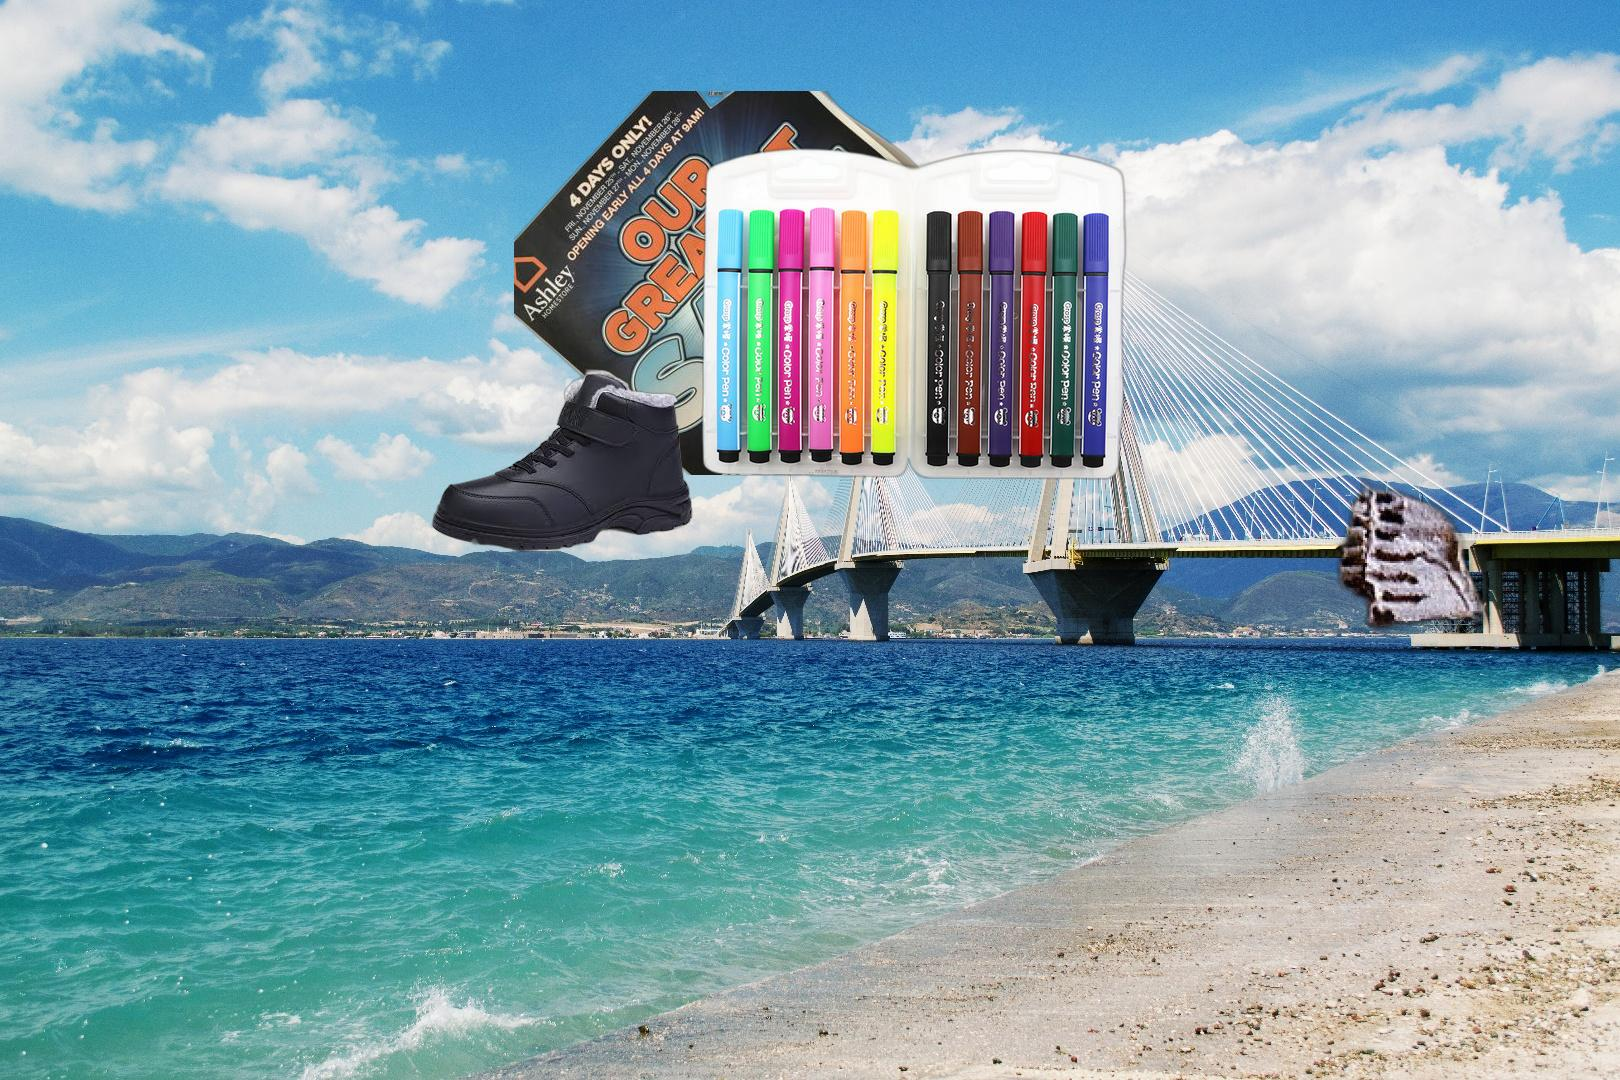paper: (513, 90, 1019, 475), (1577, 221, 1620, 605)
penholder: (698, 143, 1129, 483), (1452, 891, 1620, 1080)
shoes: (432, 369, 694, 554)
trashbox-cardboard: (1330, 466, 1501, 651)
